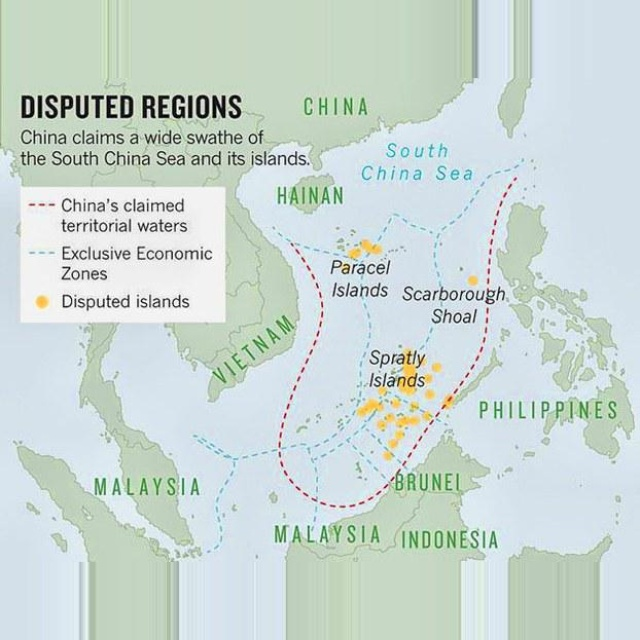Nine Dash Line: (271, 165, 517, 594)
